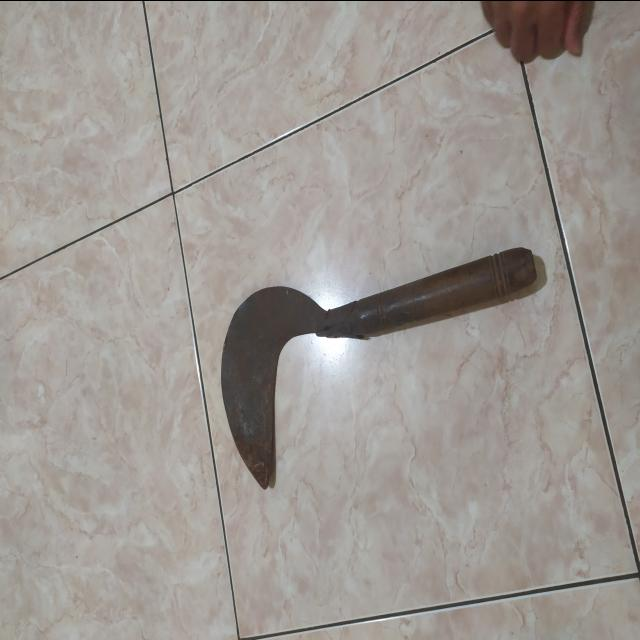Celurit: (219, 249, 539, 488)
